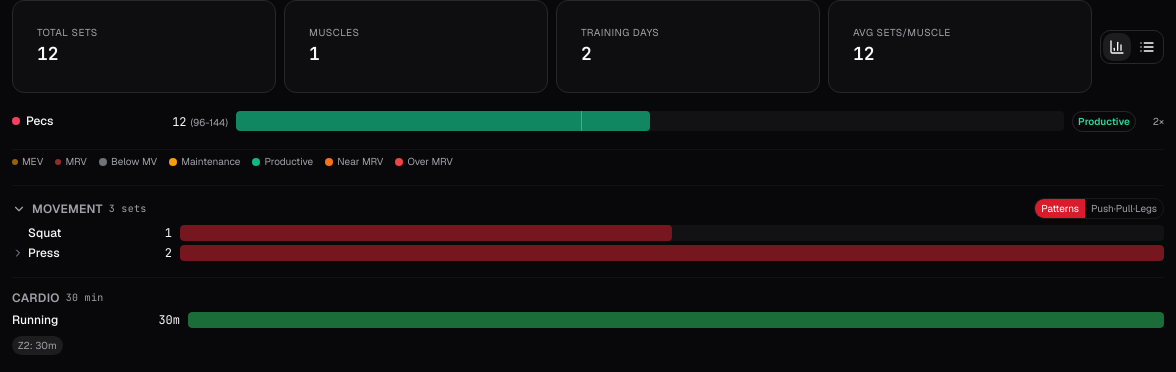
Scenario: VolumeOverview — multi-lens › flag-ON: Patterns/PPL toggle switches the movement lens to the affinity rollup
Click the button "Push·Pull·Legs". click: [1124, 208]
box: [1085,199,1163,218]
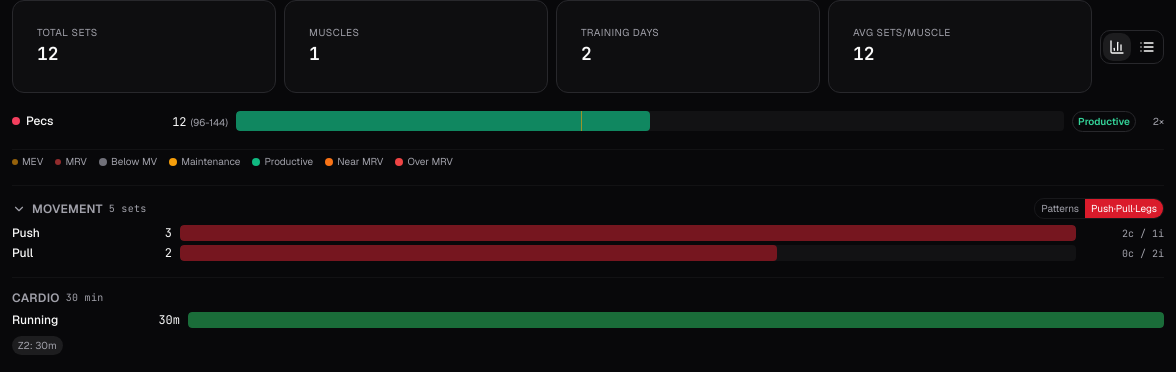
Expected: the element that starts with "Total Sets" shows "Push", [12,225,40,241]
Result: the text "Squat" is gone
Click the button "Patterns". click: [1060, 208]
box: [1035,199,1085,218]
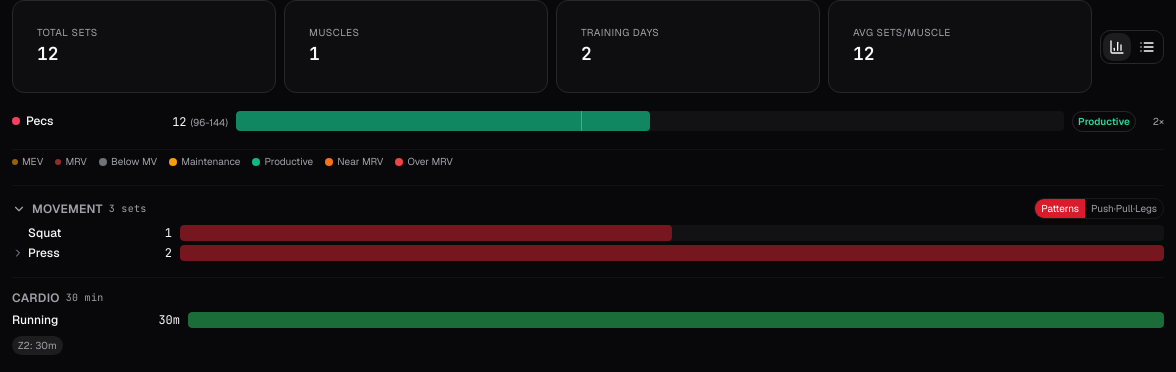
Result: the element that starts with "Total Sets" shows "Squat" at [28,225,62,241]
